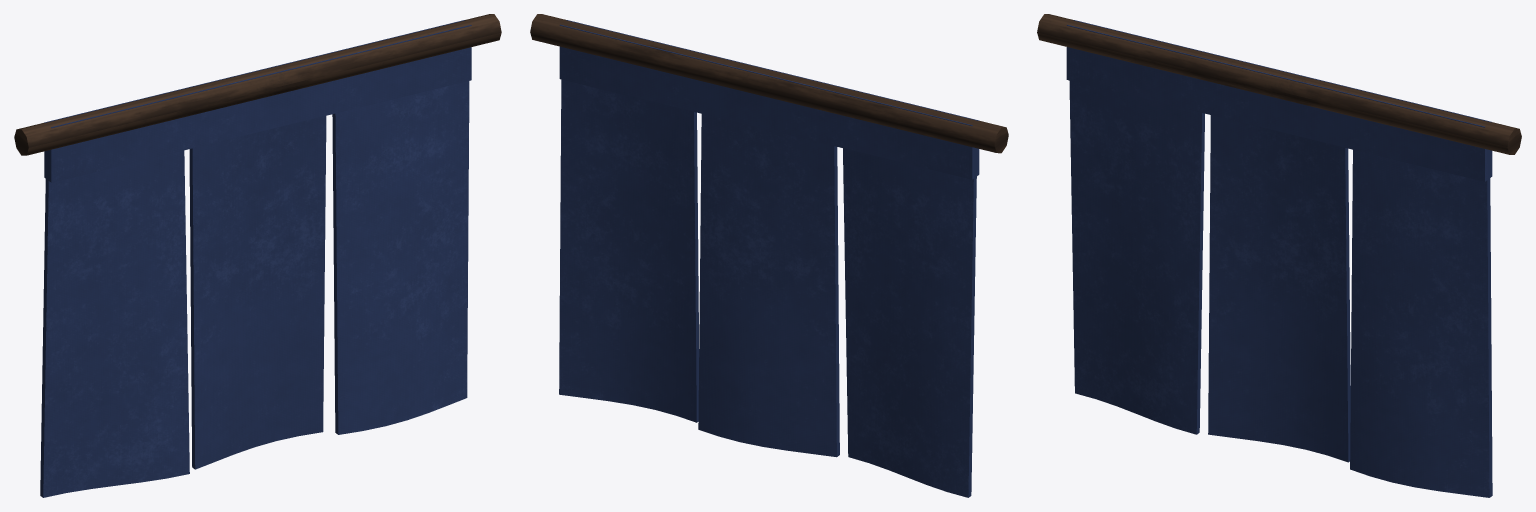
Rendered from HO_Prop_Noren_4_Indigo.fbx.
The picture shows the model from 3 angles, left to right: view 1: azimuth 30°, elevation 25°; view 2: azimuth 150°, elevation 25°; view 3: azimuth 330°, elevation 25°; orthographic projection.
Visible parts, largest first — view 1: HO_Prop_Noren_4_Indigo__Cloth_Indigo, HO_Prop_Noren_4_Indigo__Timber_Dark; view 2: HO_Prop_Noren_4_Indigo__Cloth_Indigo, HO_Prop_Noren_4_Indigo__Timber_Dark; view 3: HO_Prop_Noren_4_Indigo__Cloth_Indigo, HO_Prop_Noren_4_Indigo__Timber_Dark.
Boxes of the visible parts, x1,y1,x2,y2 form: HO_Prop_Noren_4_Indigo__Cloth_Indigo: (40, 20, 471, 497); HO_Prop_Noren_4_Indigo__Timber_Dark: (14, 14, 501, 155); HO_Prop_Noren_4_Indigo__Cloth_Indigo: (559, 20, 979, 497); HO_Prop_Noren_4_Indigo__Timber_Dark: (530, 14, 1008, 153); HO_Prop_Noren_4_Indigo__Cloth_Indigo: (1066, 20, 1492, 497); HO_Prop_Noren_4_Indigo__Timber_Dark: (1037, 14, 1521, 154).
Size of the model in its own units: 4.5 by 3.44 by 0.25.
